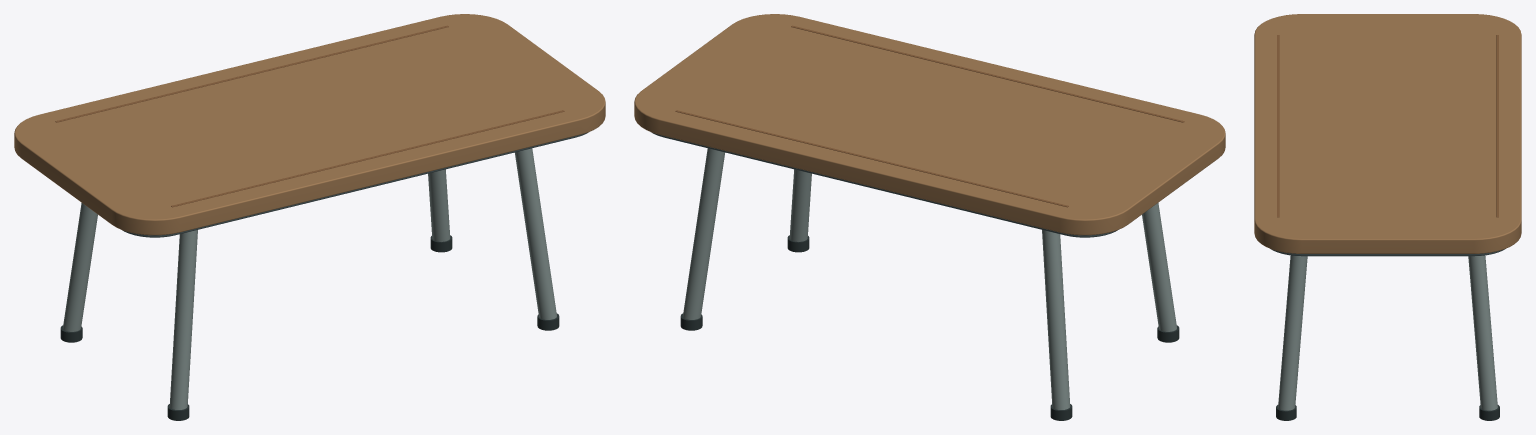
Rendered from dining-table-180.glb.
3 views of the same model, side by side, from view 1: azimuth 30°, elevation 25°; view 2: azimuth 150°, elevation 25°; view 3: azimuth 270°, elevation 25° (orthographic). The views are drawn at different scales.
Parts seen in each view (by area): view 1: dining-table-180 / 21 / honey ash timber, dining-table-180 / 05 • brushed titanium, dining-table-180 / 15 • interior timber, dining-table-180 / 04 • graphite gasket, dining-table-180 / 06 • dark anodized frame; view 2: dining-table-180 / 21 / honey ash timber, dining-table-180 / 05 • brushed titanium, dining-table-180 / 15 • interior timber, dining-table-180 / 04 • graphite gasket, dining-table-180 / 06 • dark anodized frame; view 3: dining-table-180 / 21 / honey ash timber, dining-table-180 / 05 • brushed titanium, dining-table-180 / 15 • interior timber, dining-table-180 / 06 • dark anodized frame, dining-table-180 / 04 • graphite gasket.
Boxes of the visible parts, x1,y1,x2,y2 form: dining-table-180 / 21 / honey ash timber: (14,14,605,235); dining-table-180 / 05 • brushed titanium: (63,148,556,409); dining-table-180 / 15 • interior timber: (55,25,564,207); dining-table-180 / 04 • graphite gasket: (60,235,559,420); dining-table-180 / 06 • dark anodized frame: (122,132,588,237); dining-table-180 / 21 / honey ash timber: (634,14,1225,235); dining-table-180 / 05 • brushed titanium: (683,148,1176,409); dining-table-180 / 15 • interior timber: (675,25,1184,207); dining-table-180 / 04 • graphite gasket: (680,235,1179,420); dining-table-180 / 06 • dark anodized frame: (651,132,1117,237); dining-table-180 / 21 / honey ash timber: (1254,14,1521,253); dining-table-180 / 05 • brushed titanium: (1278,255,1497,410); dining-table-180 / 15 • interior timber: (1277,35,1498,217); dining-table-180 / 06 • dark anodized frame: (1271,249,1504,256); dining-table-180 / 04 • graphite gasket: (1276,405,1499,420).
Bounding box in the file's own units: 1.8 × 0.762 × 0.9.
